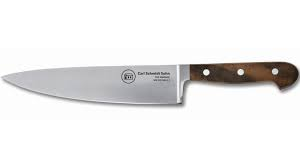knife: (1, 61, 300, 107)
